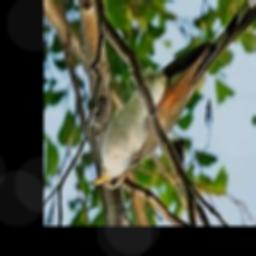Cuckoo: (90, 0, 256, 189)
